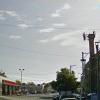Tree: (50, 63, 77, 94)
